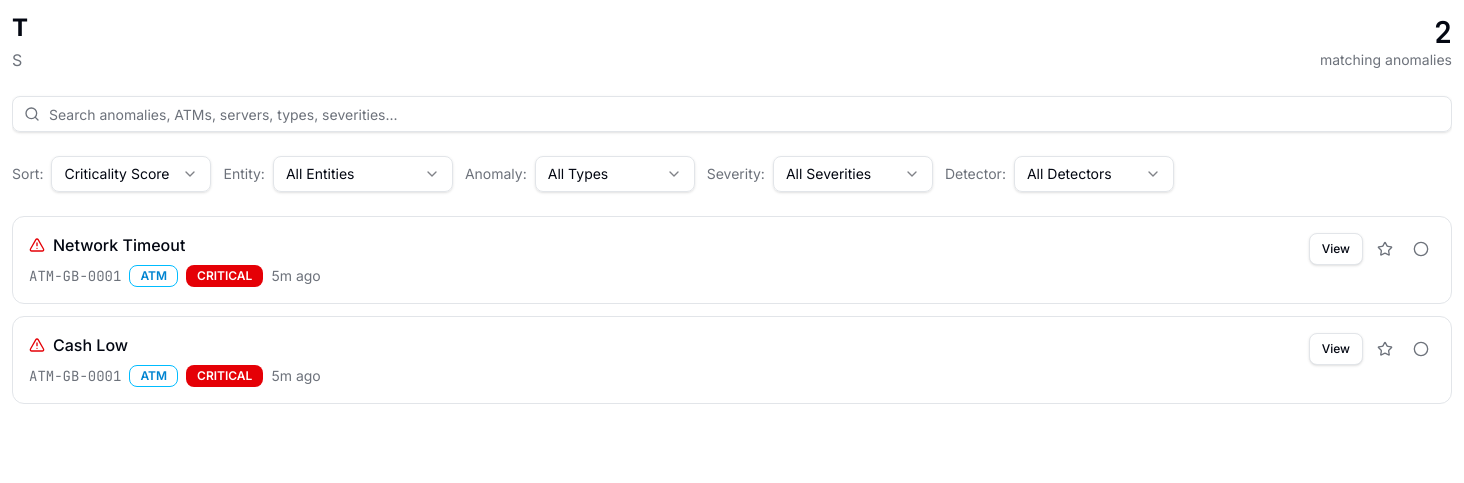
AnomalyListPage filters › shows server entities in entity dropdown
This screenshot has width=1464, height=483.
Expected: the heading "Network Timeout" is shown, [53,233,185,257]
Step 1. Click the dropdown labelled "All Entities" → (363, 174), box [273,156,453,192]
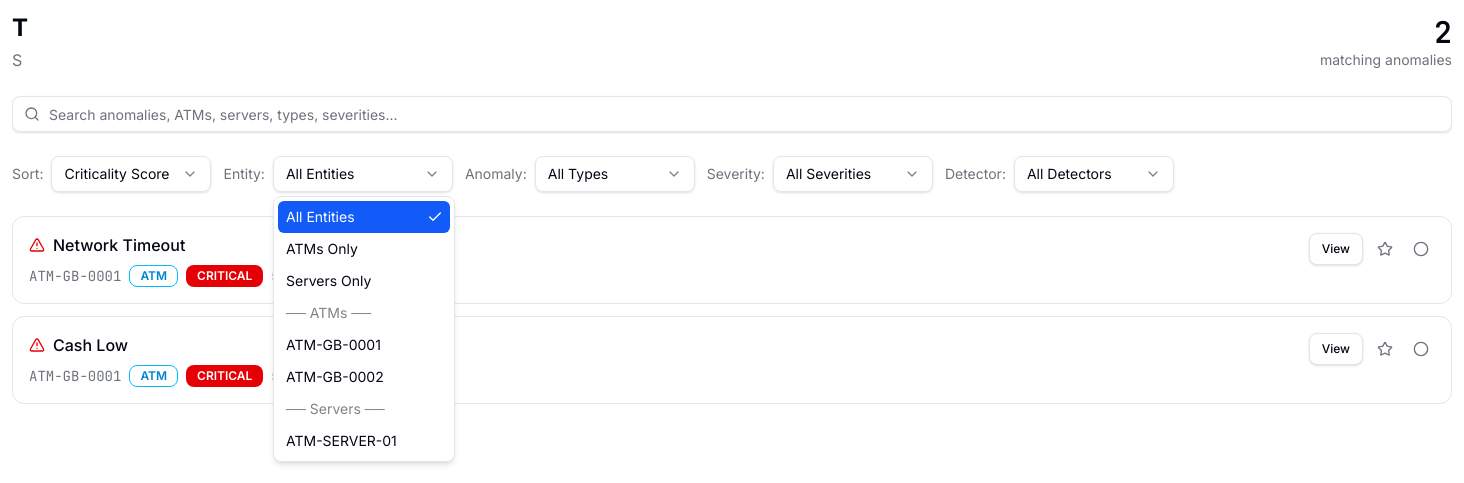
Expected: the option "ATM-SERVER-01" is shown, [286,432,397,449]
